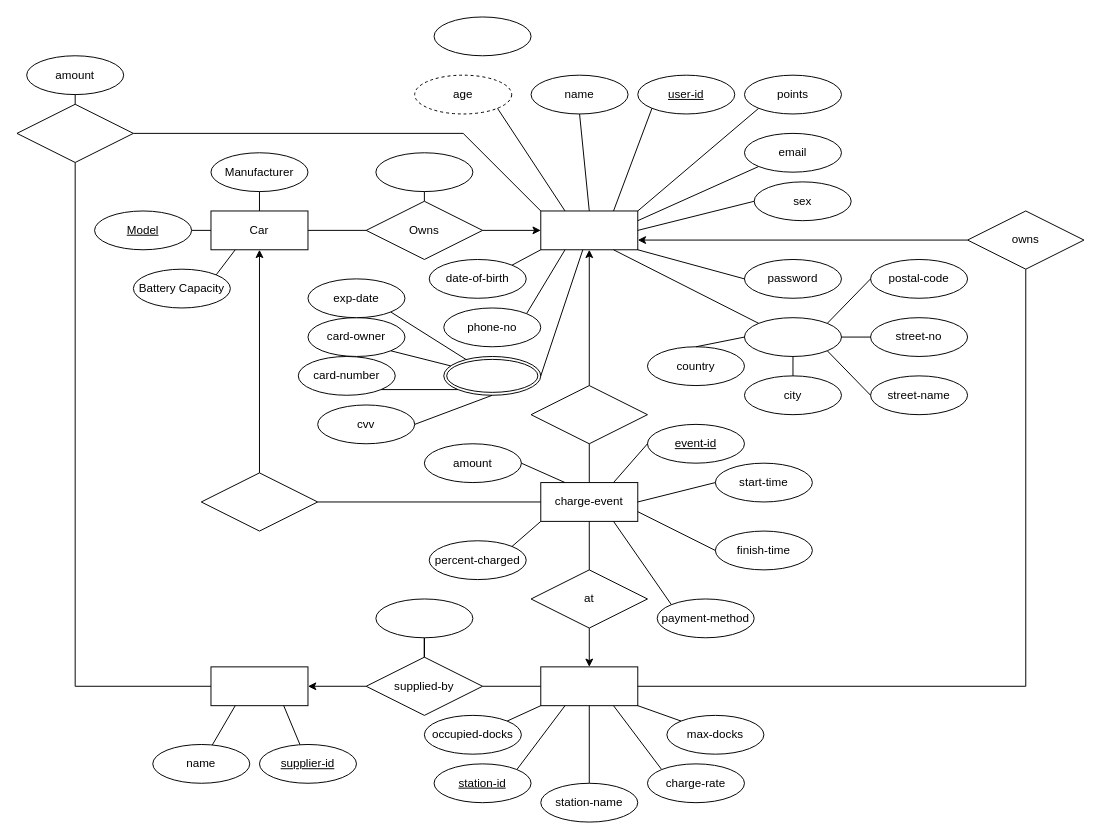
Some shapes in this 1101 by 839 pixel diagram are drawn without their labels. Here are the shapes that lost their labels. From the top down, the centre of each, then its label:
At (482,36): "Attribute".
At (74,132): "owes".
At (424,172): "License Plate".
At (589,230): "User".
At (792,336): "address".
At (492,375): "credit-card".
At (588,414): "made".
At (259,501): "for".
At (424,618): "rate".
At (259,686): "elec-supplier".
At (589,686): "station".
